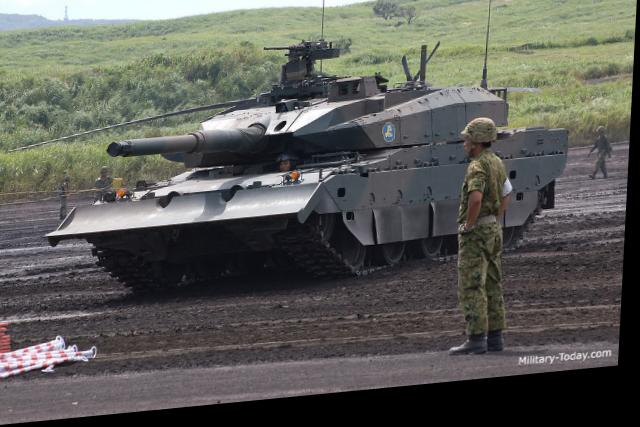other: (451, 125, 520, 365), (589, 135, 614, 188), (59, 172, 74, 228), (94, 161, 114, 201)
tank: (47, 23, 578, 289)
